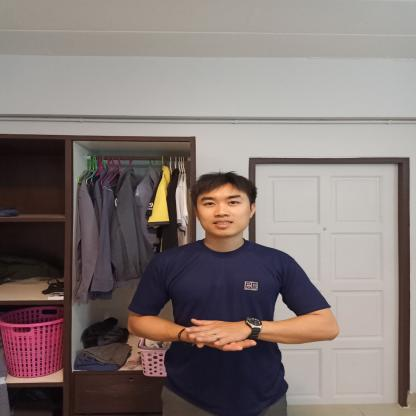Love: (150, 301, 324, 365)
